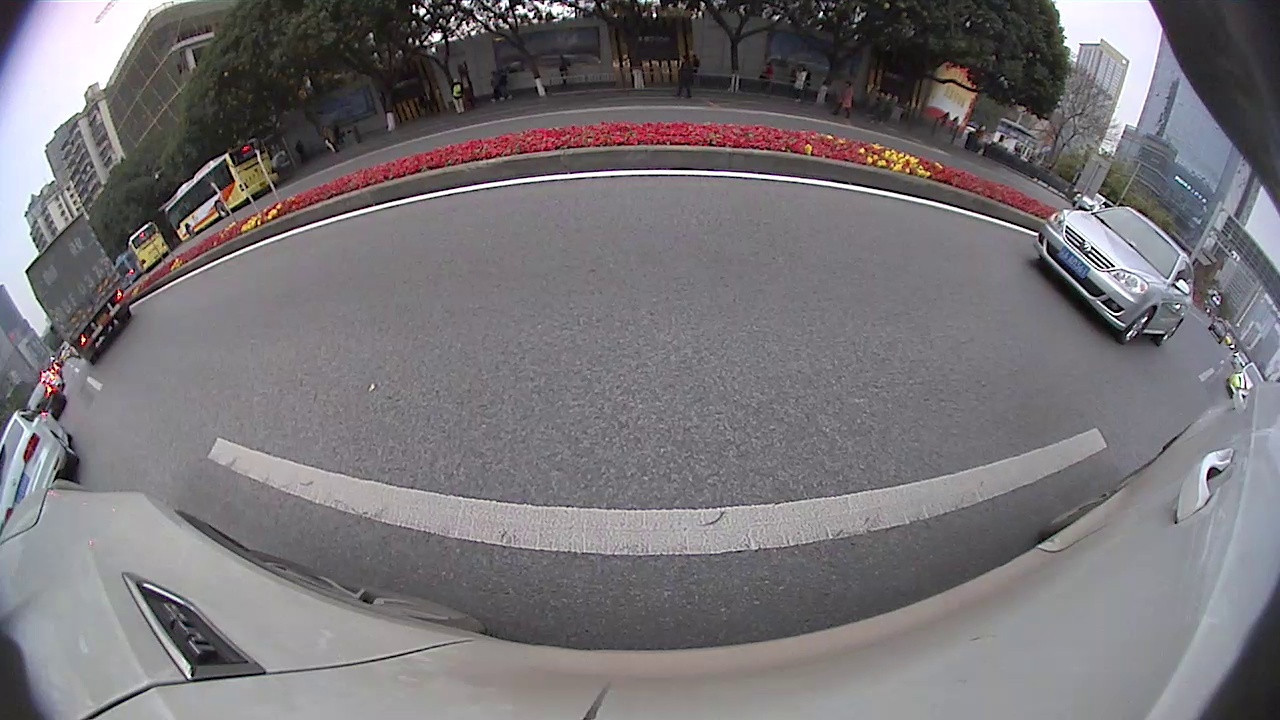bus: (162, 134, 283, 247), (126, 218, 172, 278)
car: (1032, 204, 1198, 346), (3, 408, 82, 546), (20, 381, 69, 422), (1227, 360, 1266, 402)
front: (1120, 303, 1157, 344)
rear: (53, 432, 78, 465), (1162, 315, 1184, 341), (214, 201, 228, 220)
truck: (23, 209, 134, 368)
